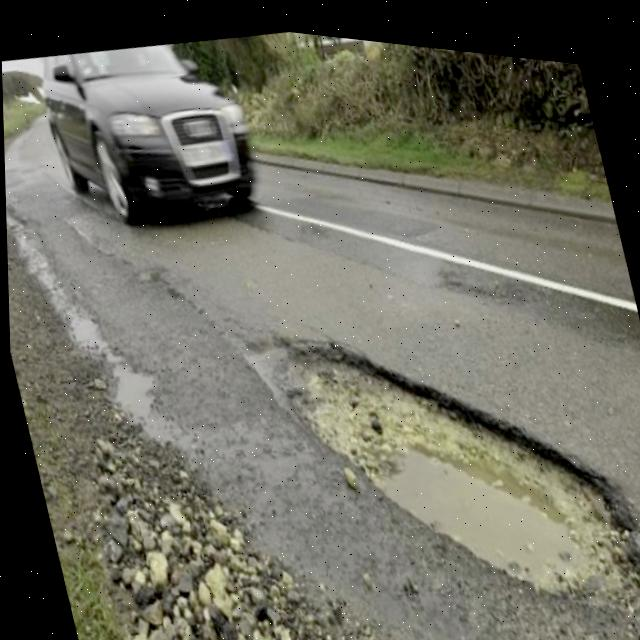Pothole: (233, 229, 640, 640)
